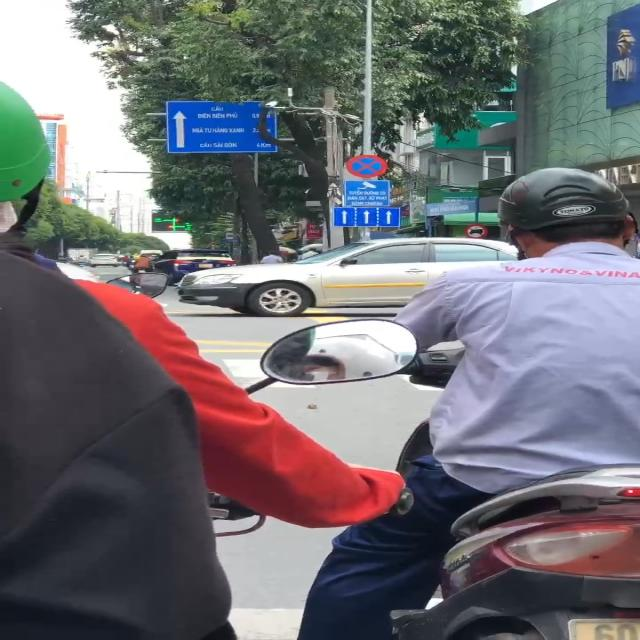Bien bao cam dung xe va do xe: (344, 153, 391, 178)
